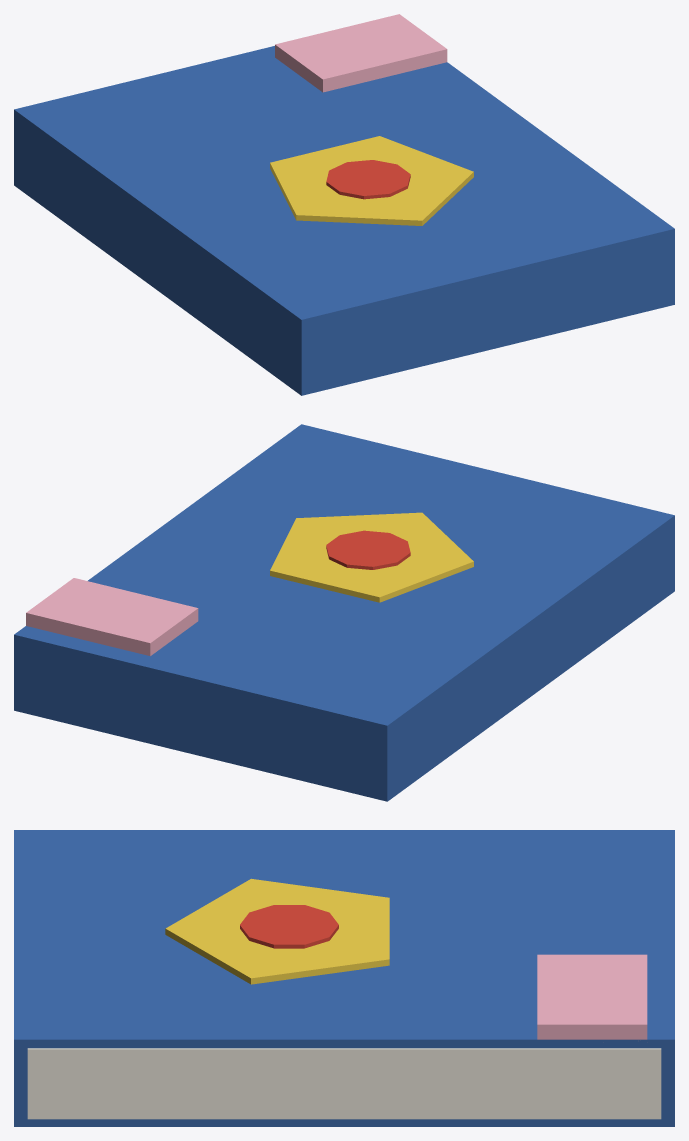
The model's file is recipe_book.glb.
The picture shows the model from 3 angles, top to bottom: view 1: azimuth 30°, elevation 25°; view 2: azimuth 150°, elevation 25°; view 3: azimuth 270°, elevation 25°; orthographic projection. The views are drawn at different scales.
Parts seen in each view (by area): view 1: cover_recipe_blue, logo_logo_yellow, frosting_frosting_pink, logo_dot_logo_red; view 2: cover_recipe_blue, logo_logo_yellow, frosting_frosting_pink, logo_dot_logo_red; view 3: cover_recipe_blue, pages_notebook_pages, logo_logo_yellow, frosting_frosting_pink, logo_dot_logo_red.
Boxes of the visible parts, x1,y1,x2,y2 form: cover_recipe_blue: (14,46,674,395); logo_logo_yellow: (270,136,473,225); frosting_frosting_pink: (275,14,447,92); logo_dot_logo_red: (326,160,410,199); cover_recipe_blue: (14,424,674,801); logo_logo_yellow: (270,512,473,602); frosting_frosting_pink: (26,578,198,656); logo_dot_logo_red: (326,530,410,569); cover_recipe_blue: (14,830,674,1126); pages_notebook_pages: (27,1048,661,1119); logo_logo_yellow: (165,878,389,984); frosting_frosting_pink: (537,954,647,1039); logo_dot_logo_red: (240,905,338,948).
Bounding box in the file's own units: 0.181 × 0.041 × 0.24.
